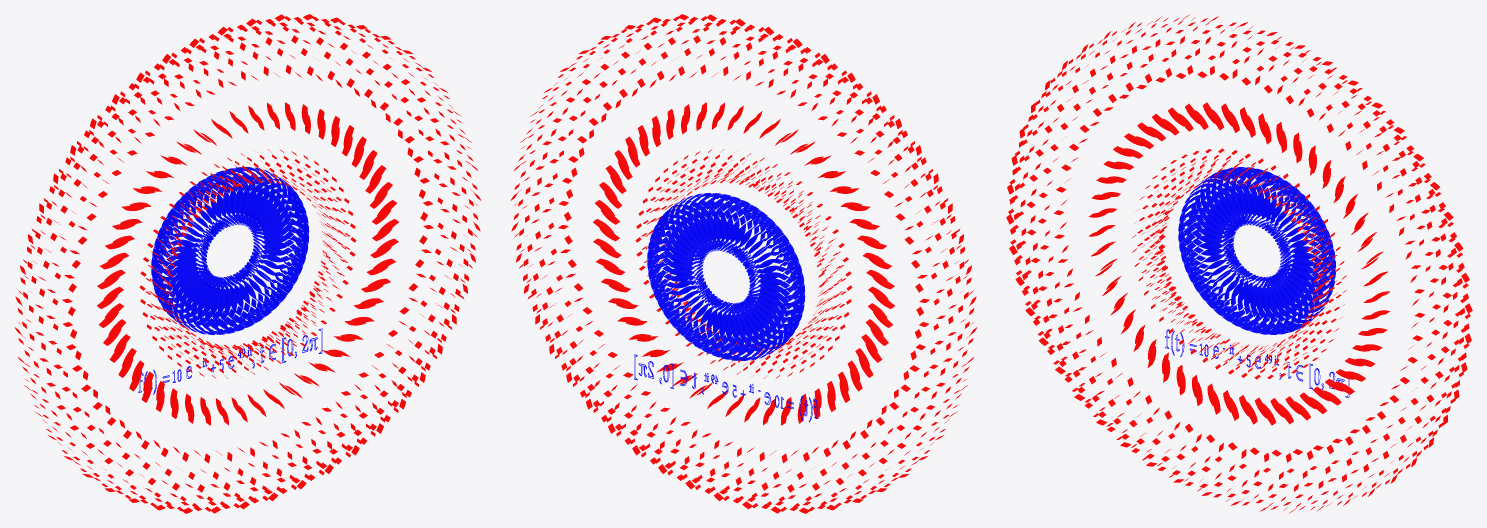
The model's file is Blowing.glb.
3 renders of one model, left to right at view 1: azimuth 30°, elevation 25°; view 2: azimuth 150°, elevation 25°; view 3: azimuth 330°, elevation 25°, orthographic.
Bounding box in the file's own units: 3.01 × 3.01 × 0.25.
